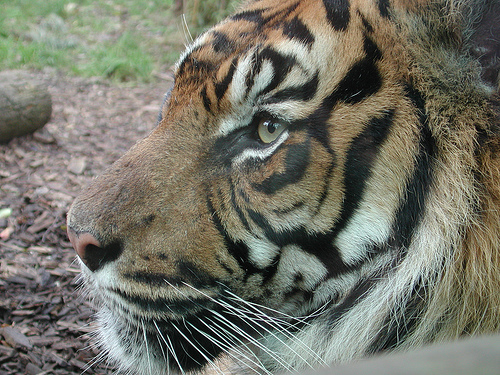Tigre: (78, 6, 495, 346)
